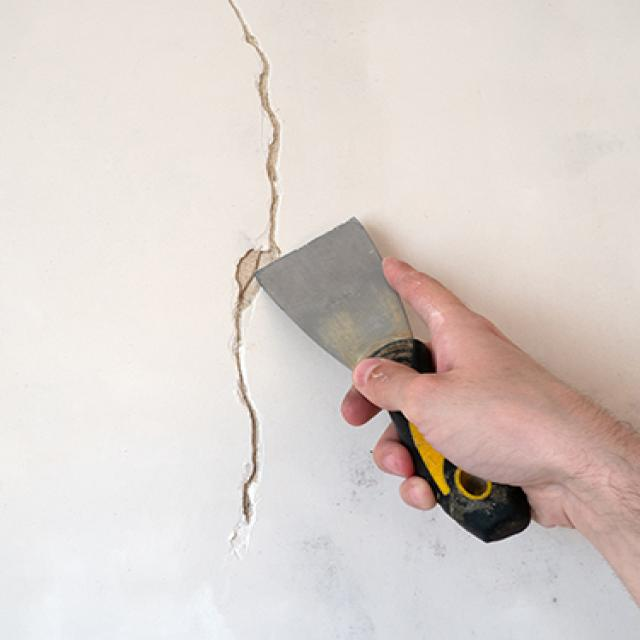Crack: (224, 0, 282, 538)
